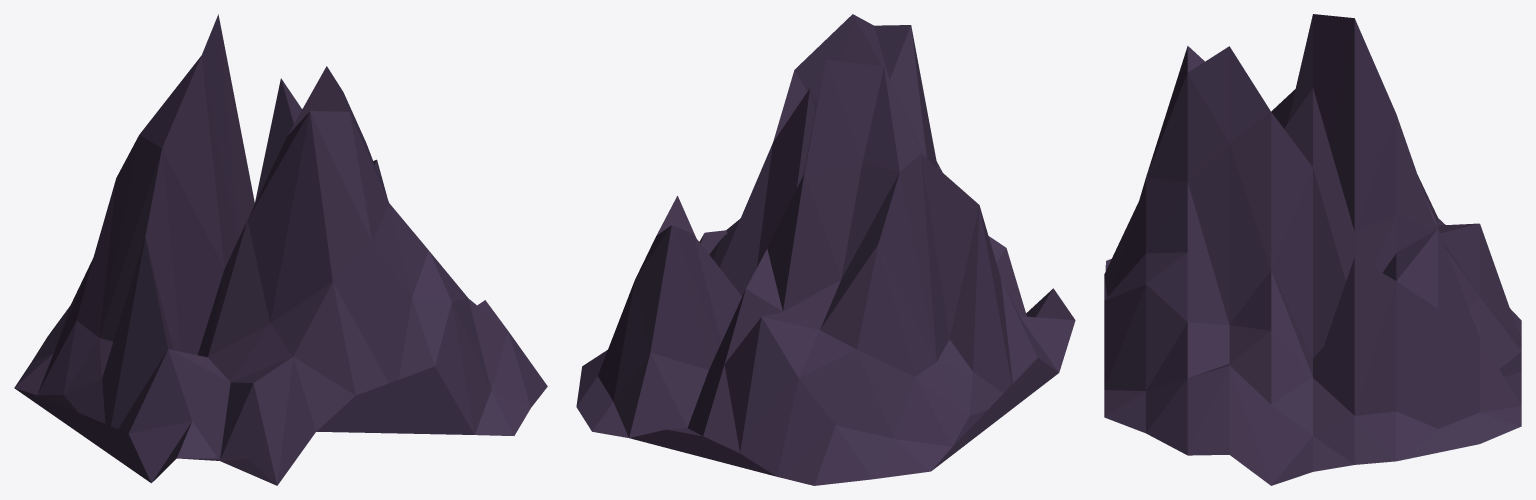
3 renders of one model, left to right at view 1: azimuth 30°, elevation 25°; view 2: azimuth 150°, elevation 25°; view 3: azimuth 270°, elevation 25°, orthographic. The views are drawn at different scales.
Visible parts, largest first — view 1: Plane; view 2: Plane; view 3: Plane.
Part boxes in pixels (<box>): Plane: <box>14,14,547,485</box>; Plane: <box>576,14,1075,485</box>; Plane: <box>1104,14,1521,485</box>.
Size of the model in its own units: 2000 by 1913 by 2000.
